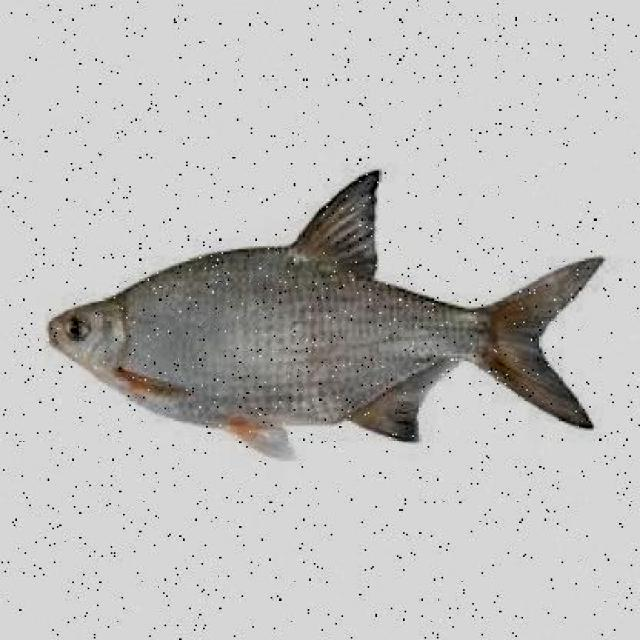ikan-mas: (44, 166, 596, 459)
